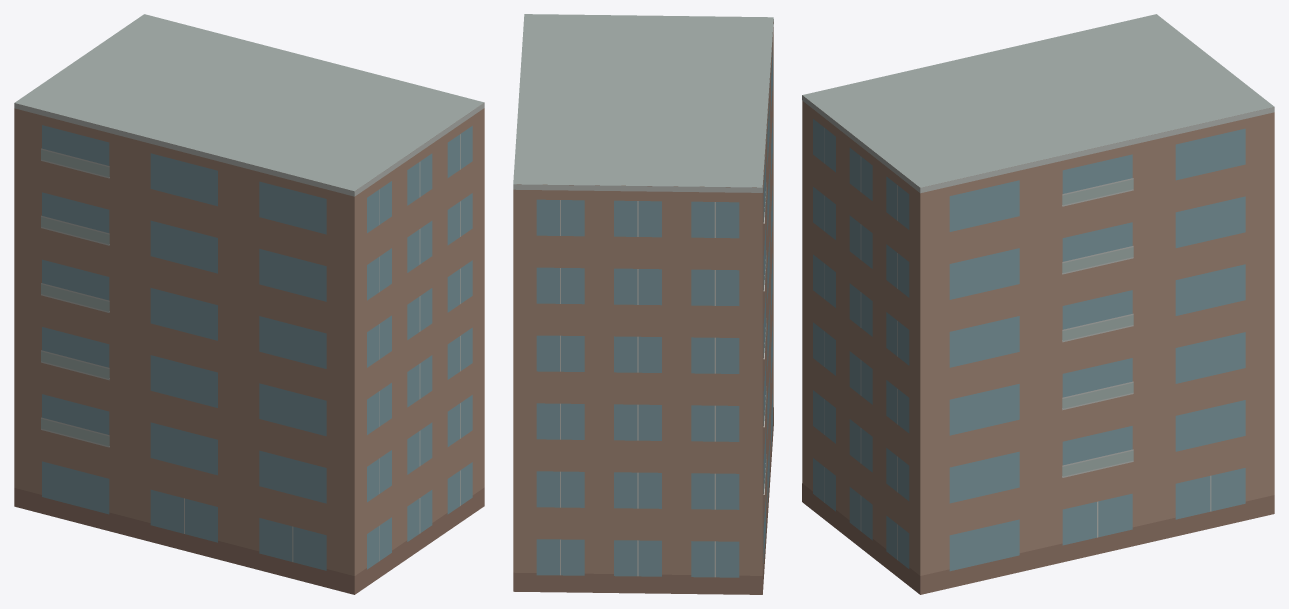
The model's file is survey-upis-32708148.glb.
3 views of the same model, side by side, from view 1: azimuth 30°, elevation 25°; view 2: azimuth 150°, elevation 25°; view 3: azimuth 270°, elevation 25° (orthographic).
Visible parts, largest first — view 1: survey-upis-32708148.tmp; view 2: survey-upis-32708148.tmp; view 3: survey-upis-32708148.tmp.
Boxes of the visible parts, x1,y1,x2,y2 form: survey-upis-32708148.tmp: (14, 14, 484, 594); survey-upis-32708148.tmp: (513, 14, 773, 594); survey-upis-32708148.tmp: (802, 14, 1274, 594).
Size of the model in its own units: 16.77 by 18.3 by 19.26.
